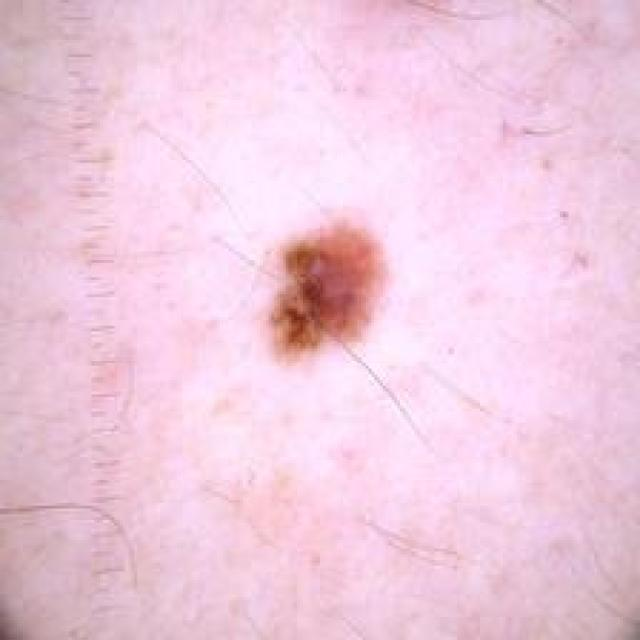Cancer: (230, 199, 395, 374)
